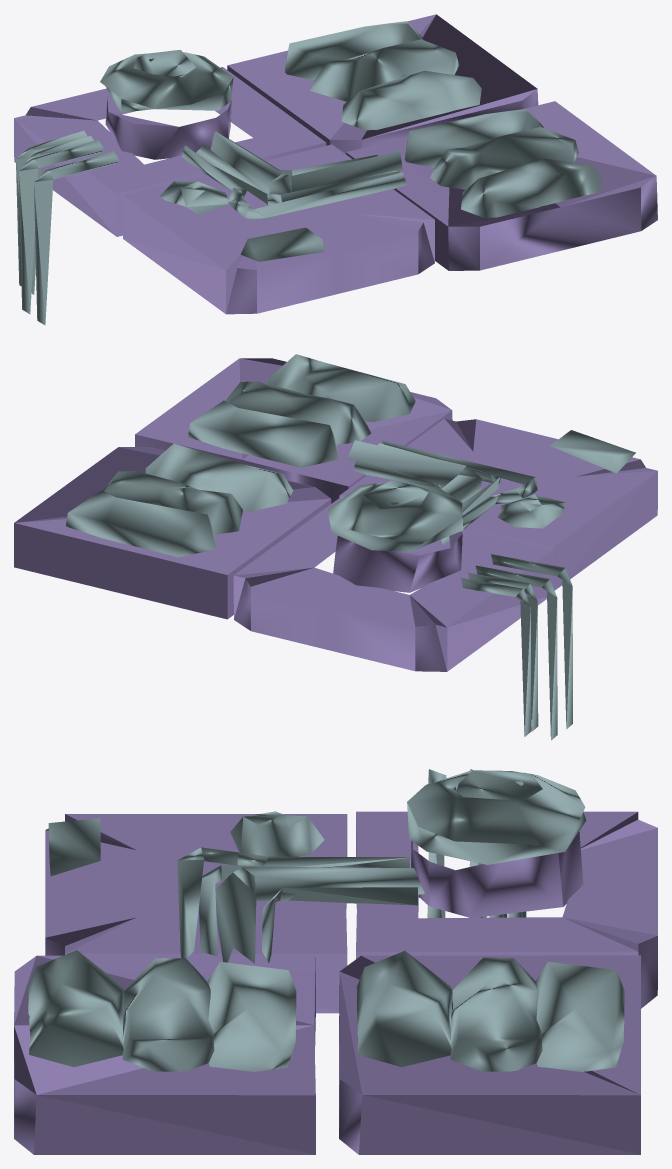
The model's file is backdrop_top_b_lod3.glb.
3 views of the same model, one above another, from view 1: azimuth 30°, elevation 25°; view 2: azimuth 150°, elevation 25°; view 3: azimuth 270°, elevation 25° (orthographic). The views are drawn at different scales.
Bounding box in the file's own units: 128 × 53.8 × 110.
